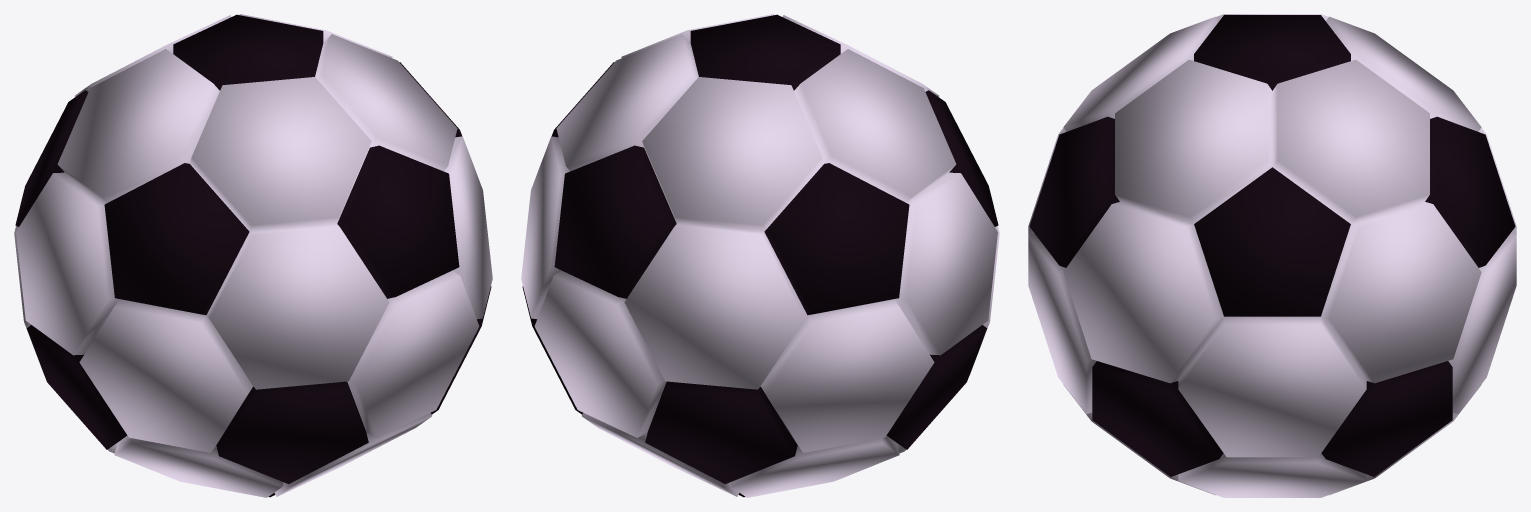
File: Ball.fbx
3 renders of one model, left to right at view 1: azimuth 30°, elevation 25°; view 2: azimuth 150°, elevation 25°; view 3: azimuth 270°, elevation 25°, orthographic. The views are drawn at different scales.
Visible parts, largest first — view 1: Ball; view 2: Ball; view 3: Ball.
Part boxes in pixels (x1,y1,x2,y2): Ball: (14,14,492,497); Ball: (521,14,999,497); Ball: (1028,14,1516,497).
Bounding box in the file's own units: 0.5042 × 0.491 × 0.5108.
